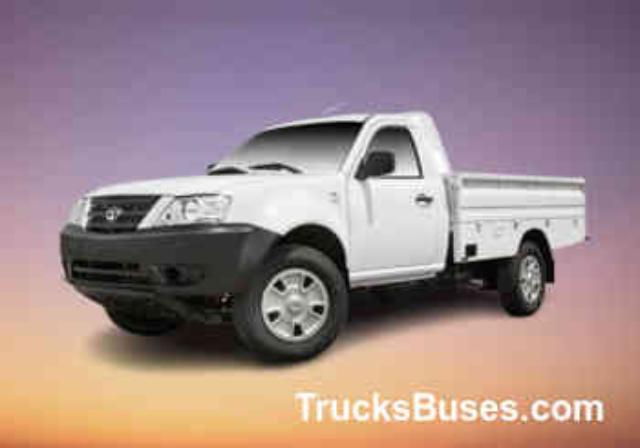pickup-truck: (59, 111, 587, 363)
